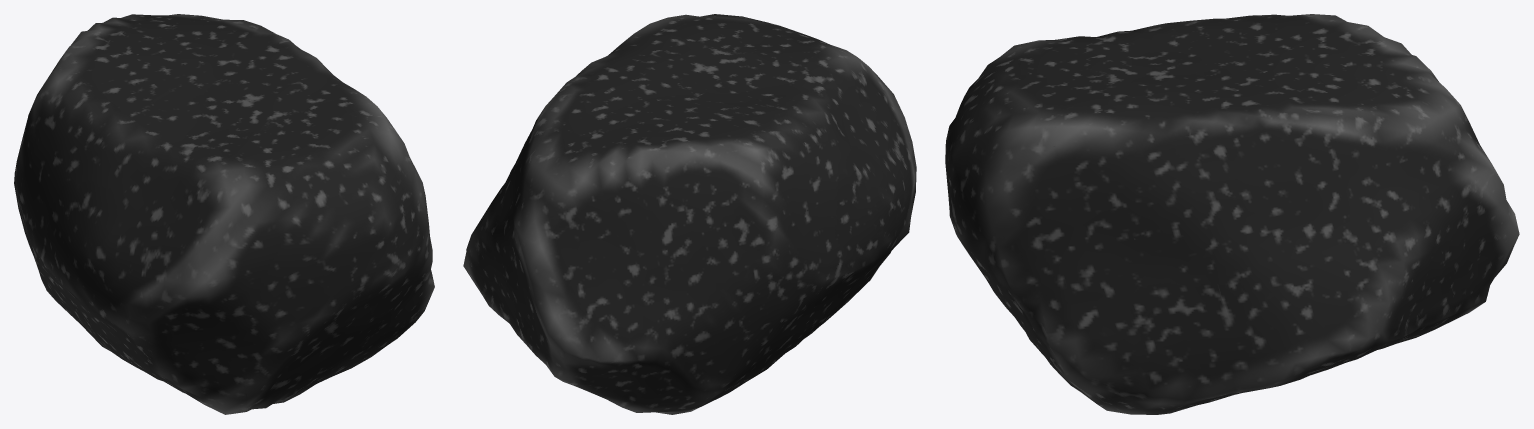
The model's file is lunar_rock12.glb.
The picture shows the model from 3 angles, left to right: view 1: azimuth 30°, elevation 25°; view 2: azimuth 150°, elevation 25°; view 3: azimuth 270°, elevation 25°; orthographic projection. The views are drawn at different scales.
Parts seen in each view (by area): view 1: lunar_rock_12; view 2: lunar_rock_12; view 3: lunar_rock_12.
Part boxes in pixels (x1,y1,x2,y2): lunar_rock_12: (14, 14, 434, 414); lunar_rock_12: (463, 14, 916, 414); lunar_rock_12: (945, 14, 1519, 414).
Bounding box in the file's own units: 0.1262 × 0.1024 × 0.1674.
1 material, 1 textured.
